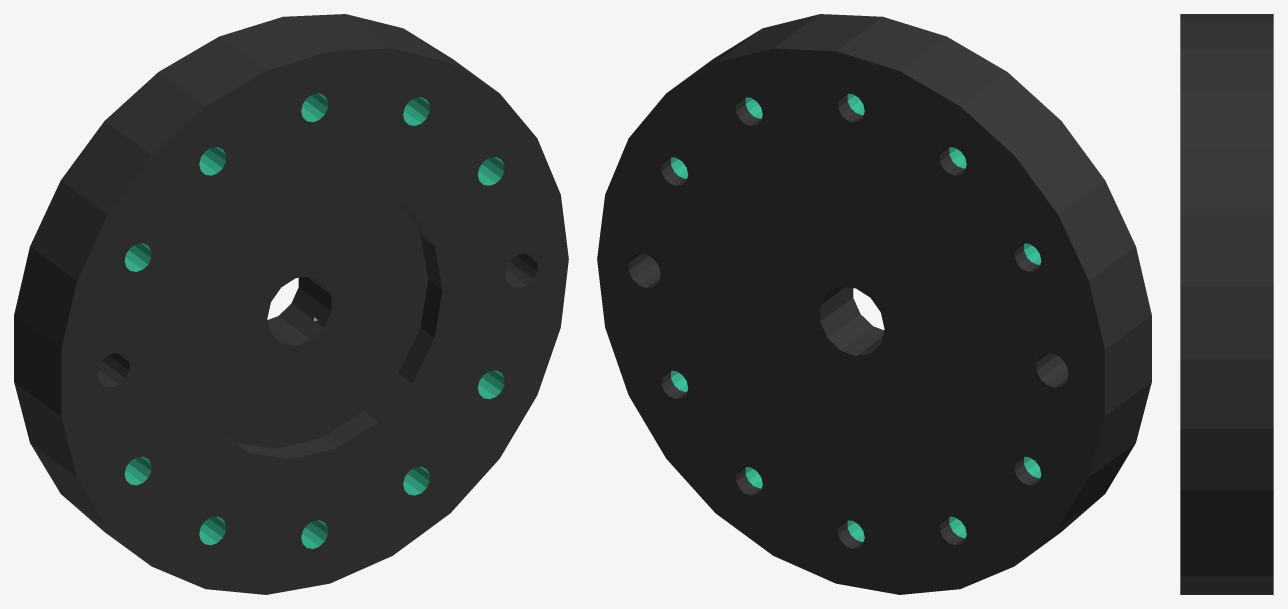
The picture shows the model from 3 angles, left to right: view 1: azimuth 30°, elevation 25°; view 2: azimuth 150°, elevation 25°; view 3: azimuth 270°, elevation 25°; orthographic projection.
Parts seen in each view (by area): view 1: node; view 2: node; view 3: node.
Part boxes in pixels (box(x1,y1,x2,y2)): node: box(14, 14, 568, 594); node: box(597, 14, 1151, 594); node: box(1180, 14, 1273, 594).
Size of the model in its own units: 125 by 125 by 20.
